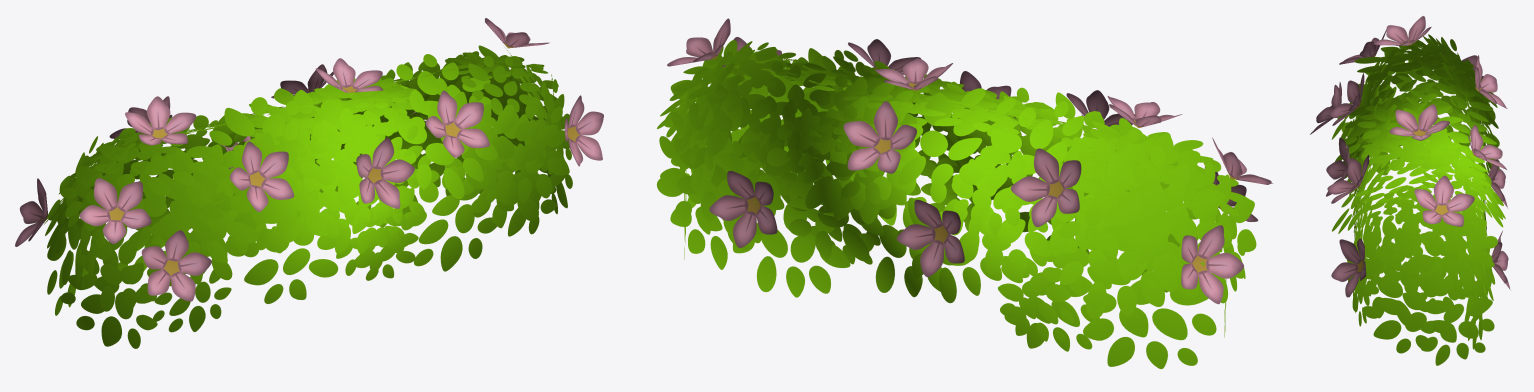
The model's file is Bush_Small_Flowers.glb.
3 renders of one model, left to right at view 1: azimuth 30°, elevation 25°; view 2: azimuth 150°, elevation 25°; view 3: azimuth 270°, elevation 25°, orthographic. The views are drawn at different scales.
Visible parts, largest first — view 1: Bush_Small_Flowers; view 2: Bush_Small_Flowers; view 3: Bush_Small_Flowers.
Boxes of the visible parts, x1,y1,x2,y2 form: Bush_Small_Flowers: (15,18,603,348); Bush_Small_Flowers: (657,18,1272,368); Bush_Small_Flowers: (1310,16,1510,365).
Size of the model in its own units: 1.93 by 0.8168 by 0.7618.
2 materials, 2 textured.
